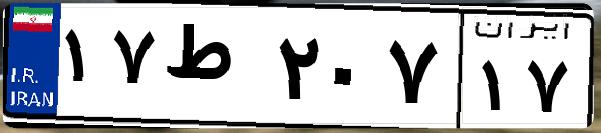0: (330, 28, 385, 110)
1: (57, 26, 110, 100), (475, 38, 525, 113)
2: (270, 28, 330, 110)
7: (385, 28, 445, 110), (525, 38, 570, 115), (110, 28, 158, 98)
ط: (158, 20, 270, 120)
